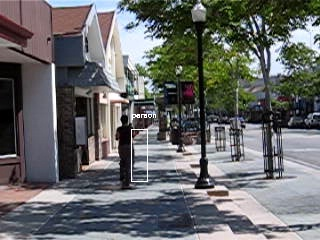person: (114, 115, 137, 188), (113, 115, 136, 188), (115, 115, 138, 188), (114, 114, 137, 187), (114, 116, 137, 189)
target_negative: (128, 22, 309, 205), (28, 160, 232, 206), (145, 169, 238, 234), (196, 236, 273, 238), (5, 164, 52, 167), (238, 238, 271, 239)
